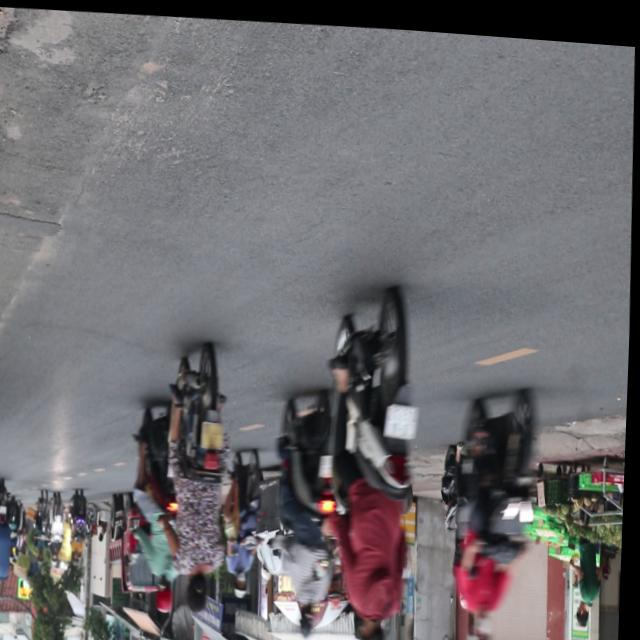helmet: (467, 605, 502, 640), (358, 610, 396, 640), (301, 597, 325, 635), (158, 576, 179, 611), (238, 568, 252, 595)
licenseplate: (321, 278, 432, 640), (442, 369, 557, 640), (160, 338, 242, 617), (271, 379, 350, 638), (129, 395, 192, 613), (223, 441, 272, 597)
motorcyclist: (188, 564, 214, 609)
nohelmet: (386, 398, 422, 433), (203, 417, 226, 444)
